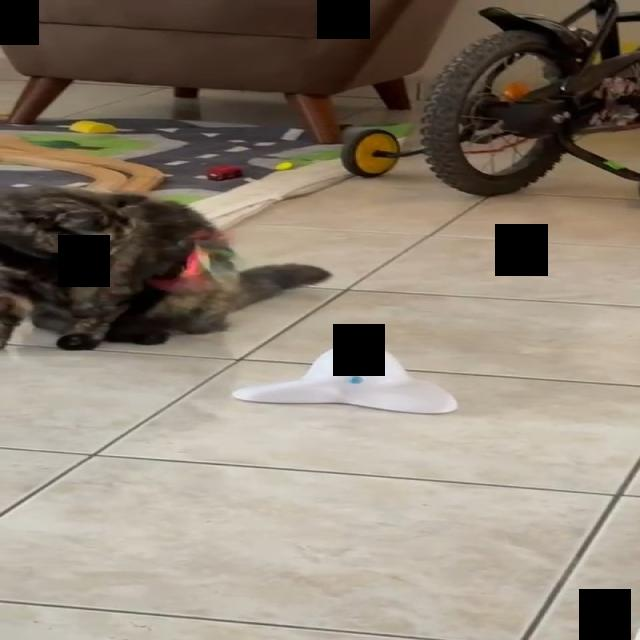authorized: (0, 184, 332, 351)
